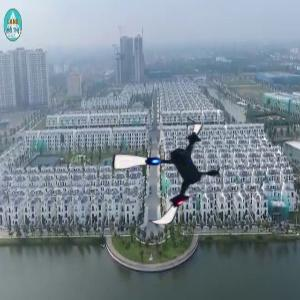drone: (113, 118, 228, 233)
